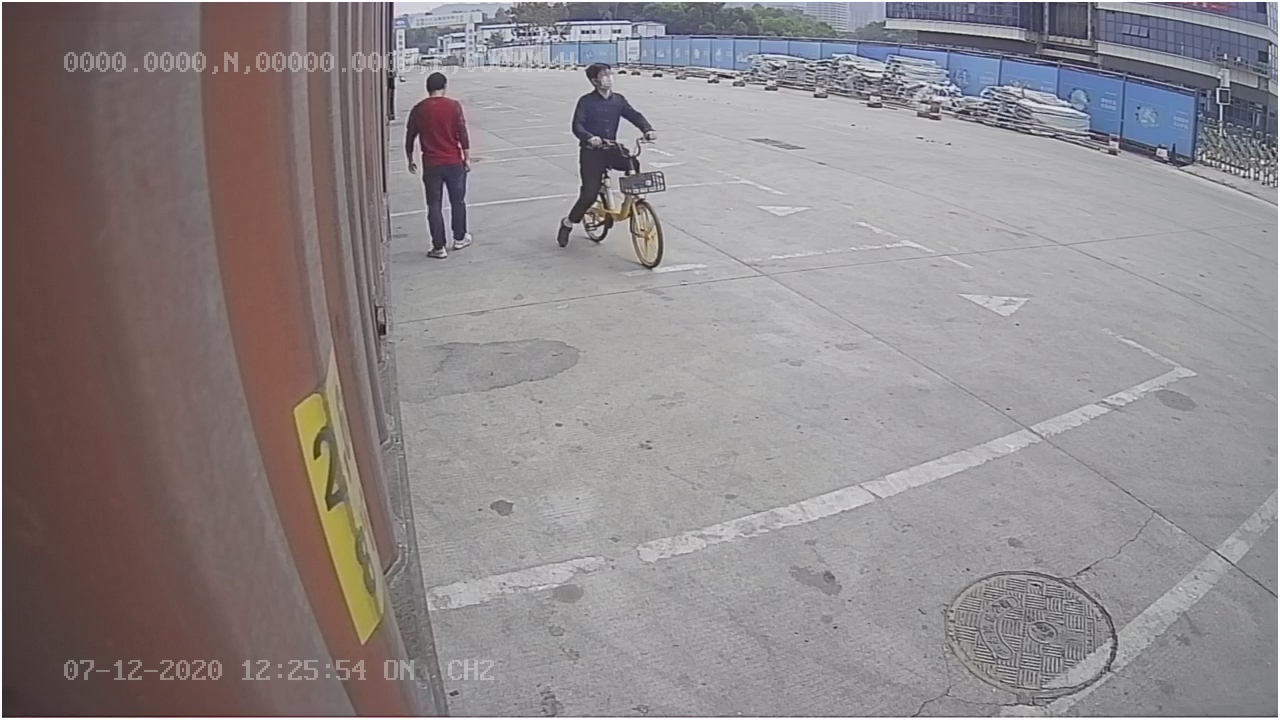person: (401, 73, 475, 260)
